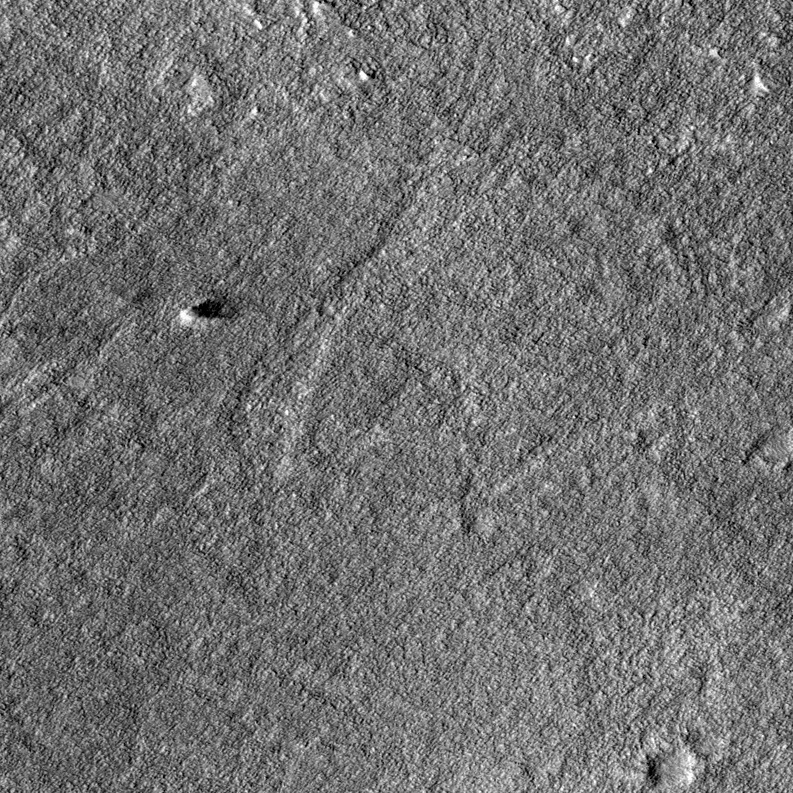dust_devil: (176, 294, 241, 332)
